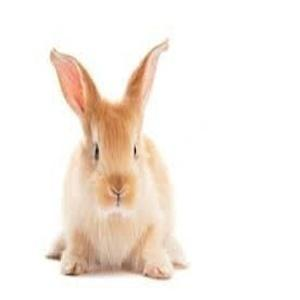rabbit: (51, 40, 185, 277)
